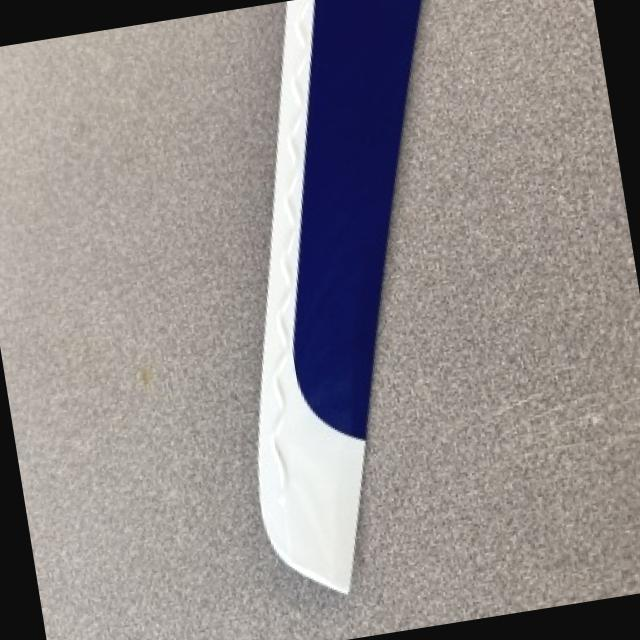healthy: (259, 0, 424, 589)
